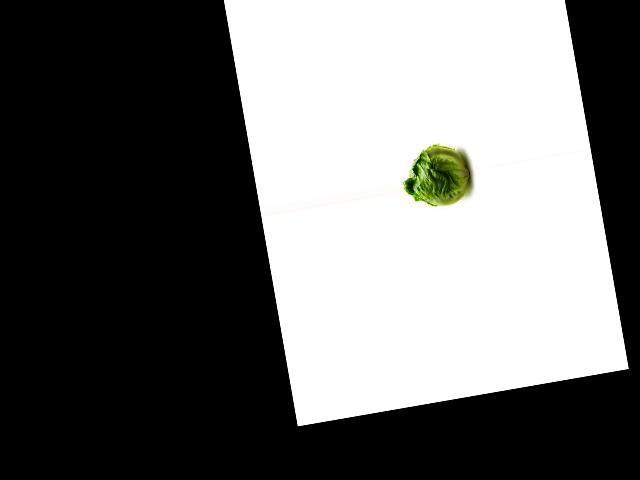lettuce: (396, 133, 477, 214)
